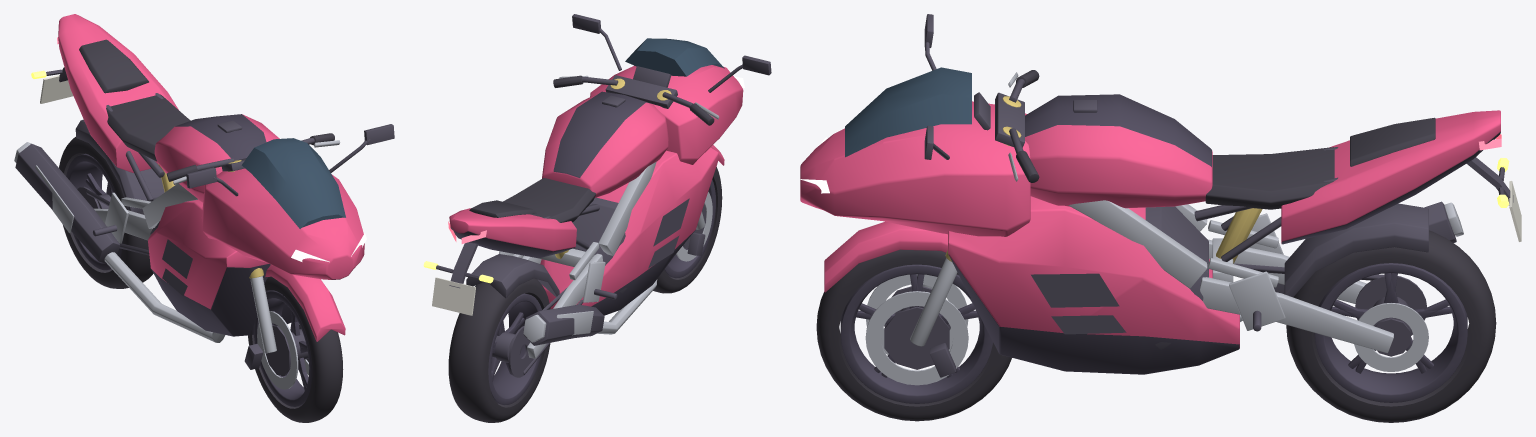
The model's file is bike.glb.
3 renders of one model, left to right at view 1: azimuth 30°, elevation 25°; view 2: azimuth 150°, elevation 25°; view 3: azimuth 270°, elevation 25°, orthographic. The views are drawn at different scales.
Parts seen in each view (by area): view 1: bike_body, wheel_f, wheel_r; view 2: bike_body, wheel_r, wheel_f; view 3: bike_body, wheel_r, wheel_f.
Boxes of the visible parts, left/top/right/bottom form: bike_body: left=14, top=14, right=394, bottom=369; wheel_f: left=248, top=276, right=343, bottom=422; wheel_r: left=59, top=137, right=153, bottom=288; bike_body: left=423, top=14, right=771, bottom=374; wheel_r: left=448, top=278, right=550, bottom=422; wheel_f: left=653, top=167, right=722, bottom=293; bike_body: left=800, top=14, right=1521, bottom=377; wheel_r: left=1286, top=230, right=1496, bottom=422; wheel_f: left=816, top=249, right=1011, bottom=421.
Bounding box in the file's own units: 0.89 × 1.1 × 2.1.
